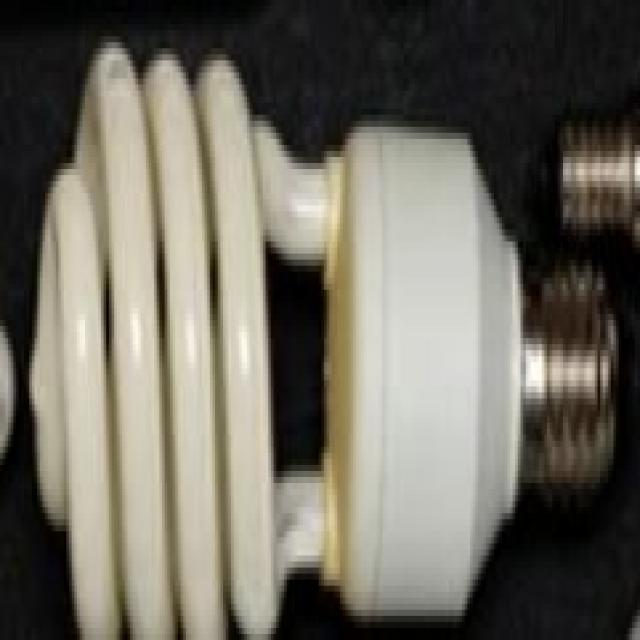electronic: (24, 36, 637, 634), (319, 115, 523, 622), (518, 248, 619, 501), (555, 102, 637, 254), (0, 314, 13, 465)
